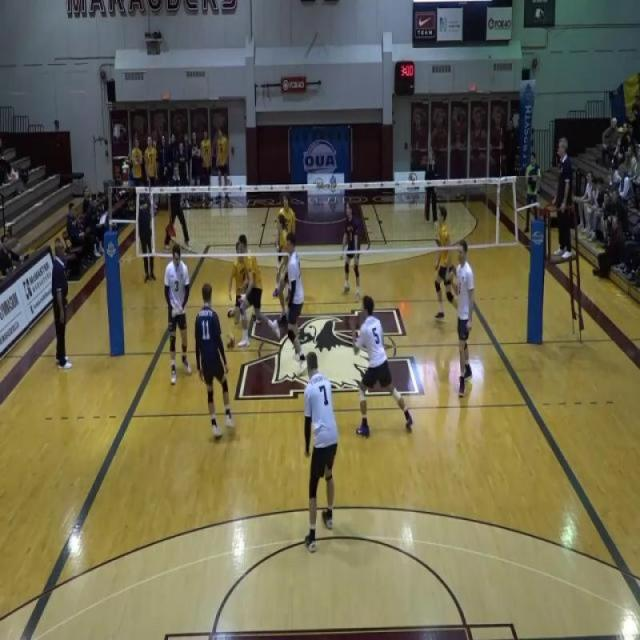volleyball: (224, 332, 236, 352)
